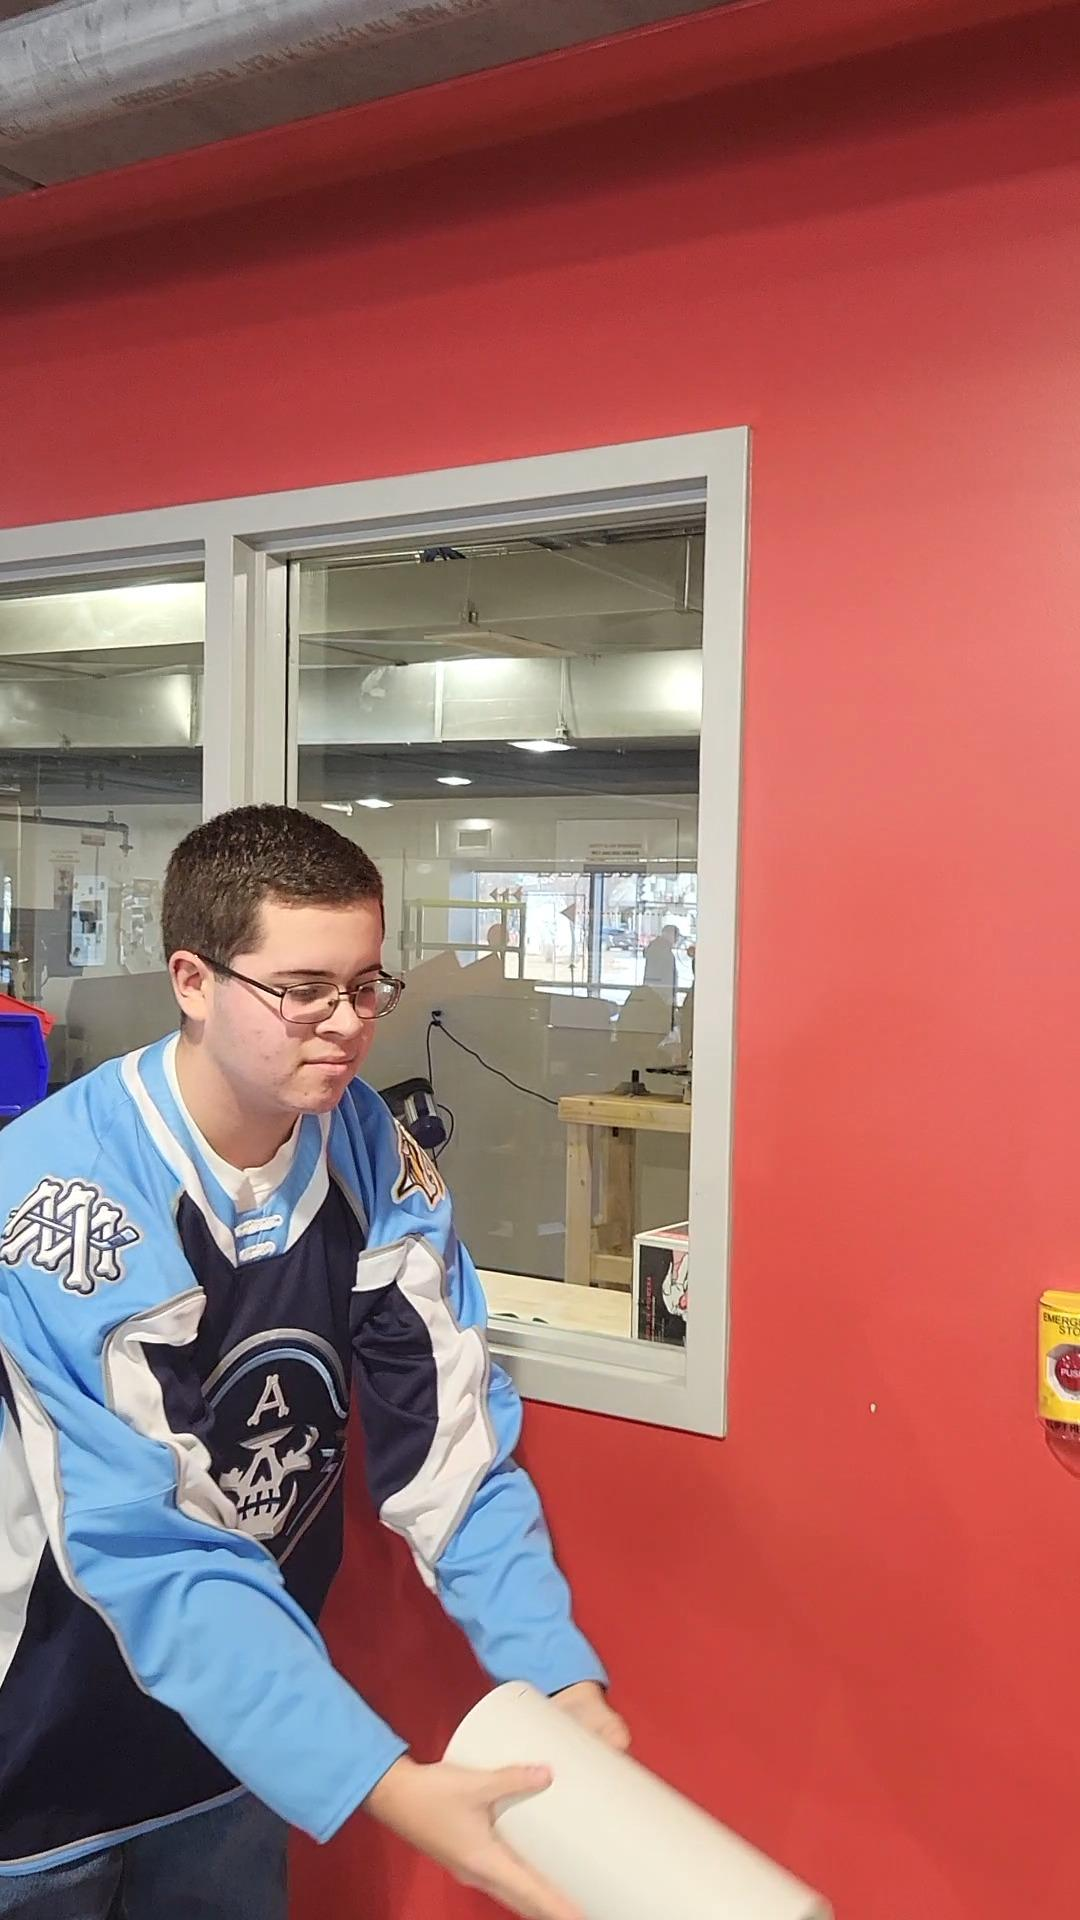coral: (450, 1680, 840, 1920)
